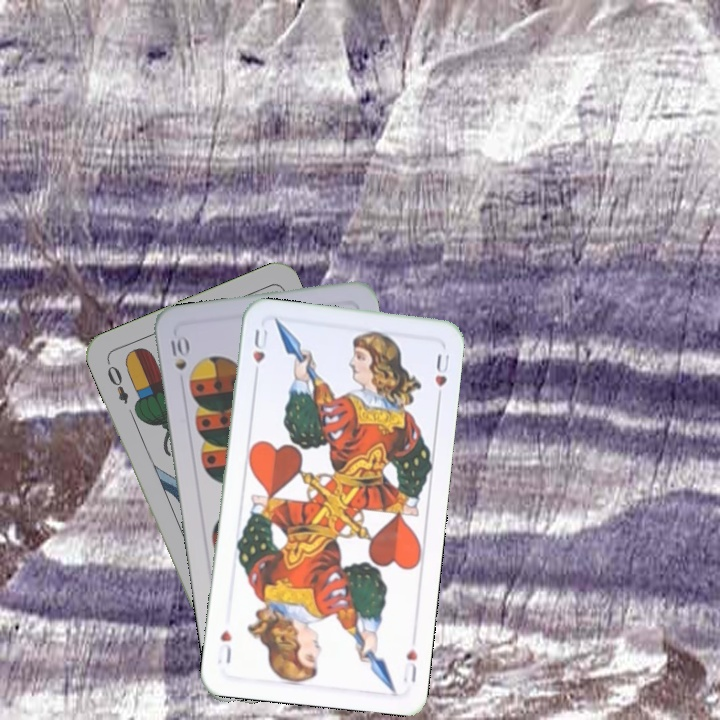EO: (103, 357, 132, 407)
HU: (249, 325, 271, 382), (399, 644, 420, 685)
S10: (167, 334, 190, 372)
